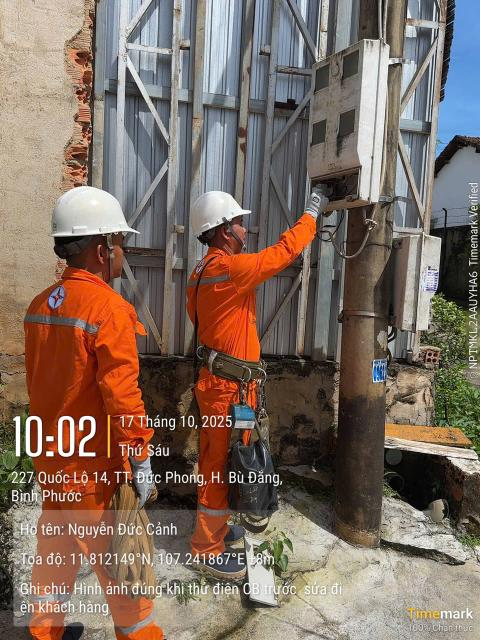gloves: (119, 445, 163, 516), (296, 187, 336, 222)
harness: (192, 333, 286, 385)
helmet: (43, 181, 152, 242), (183, 188, 270, 244)
shoes: (183, 544, 250, 582), (47, 616, 89, 640), (210, 518, 244, 546)
